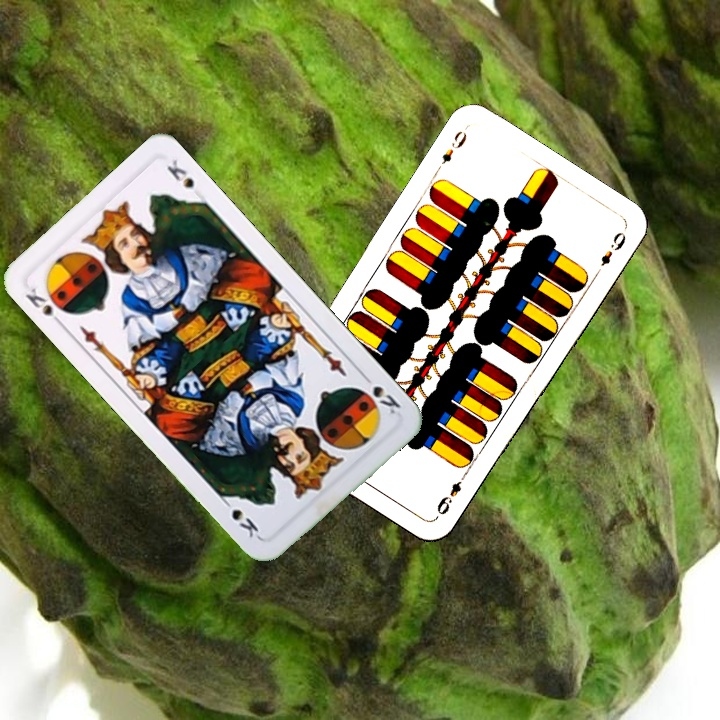E9: (432, 468, 470, 521), (431, 126, 470, 176)
SK: (20, 282, 72, 330), (357, 369, 403, 417)
